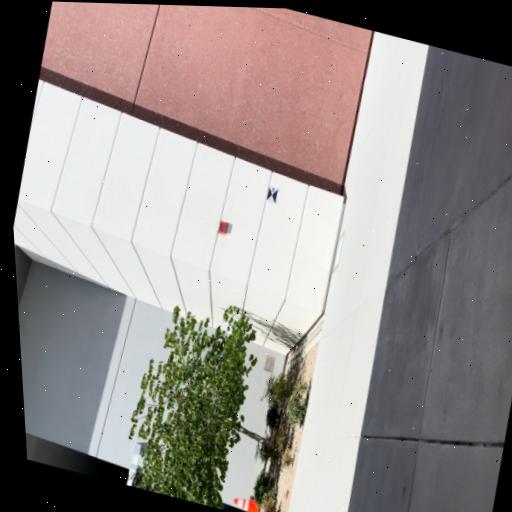target9: (265, 185, 281, 204)
